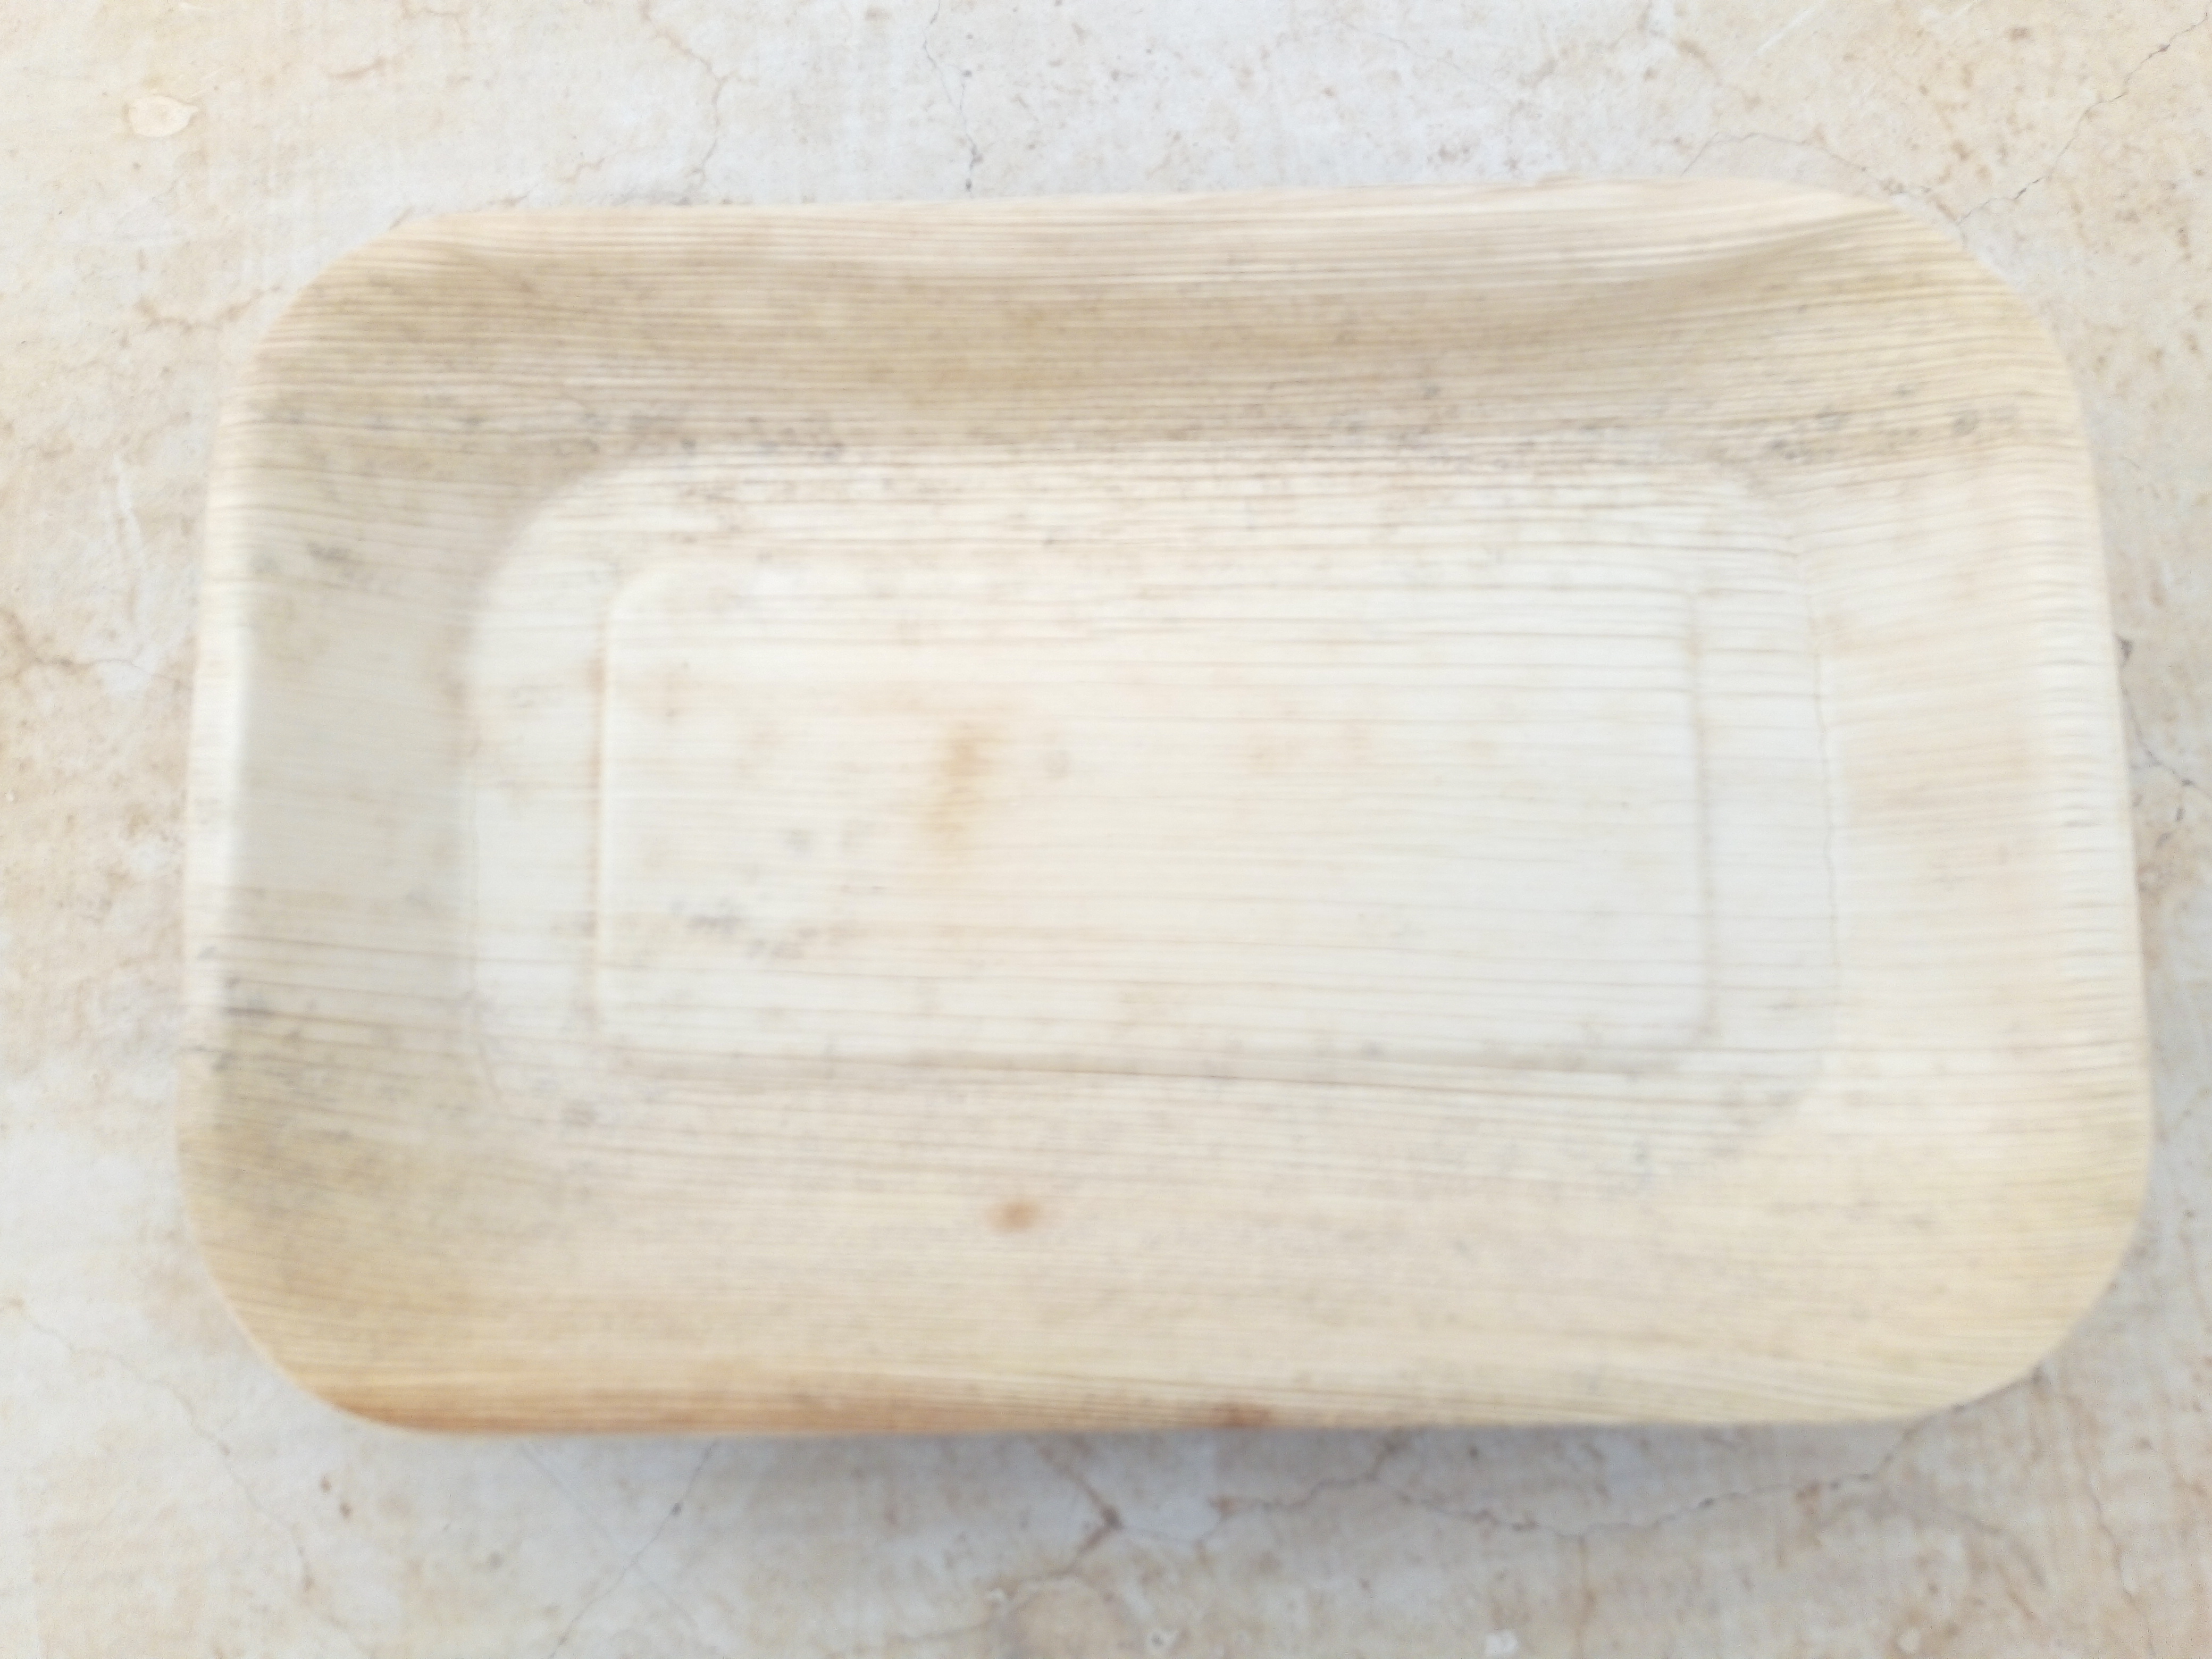areca plate: (225, 211, 2165, 1422)
